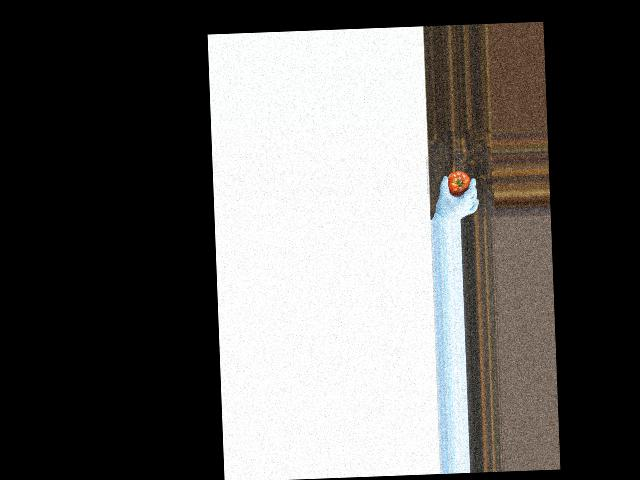tomato: (447, 169, 470, 195)
